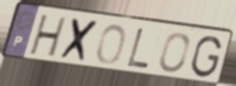G: (189, 34, 224, 79)
H: (26, 14, 69, 60)
L: (125, 26, 151, 71)
O: (95, 22, 128, 66), (158, 31, 191, 74)
X: (57, 16, 102, 65)
